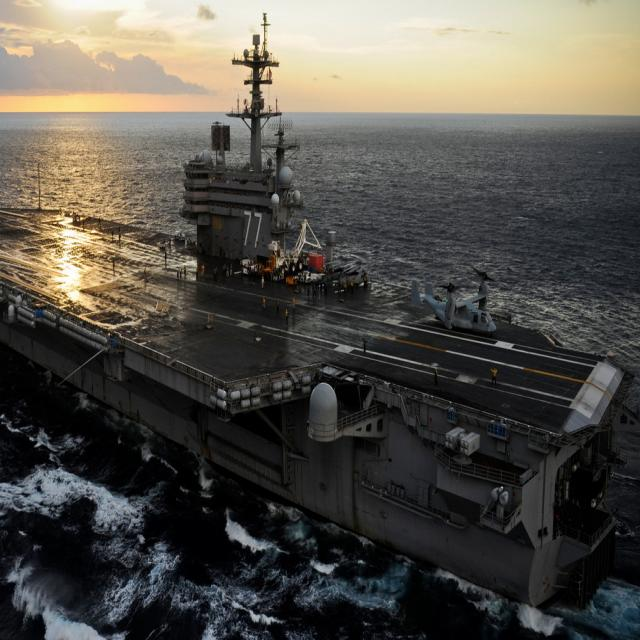Portanaves: (1, 5, 634, 625)
